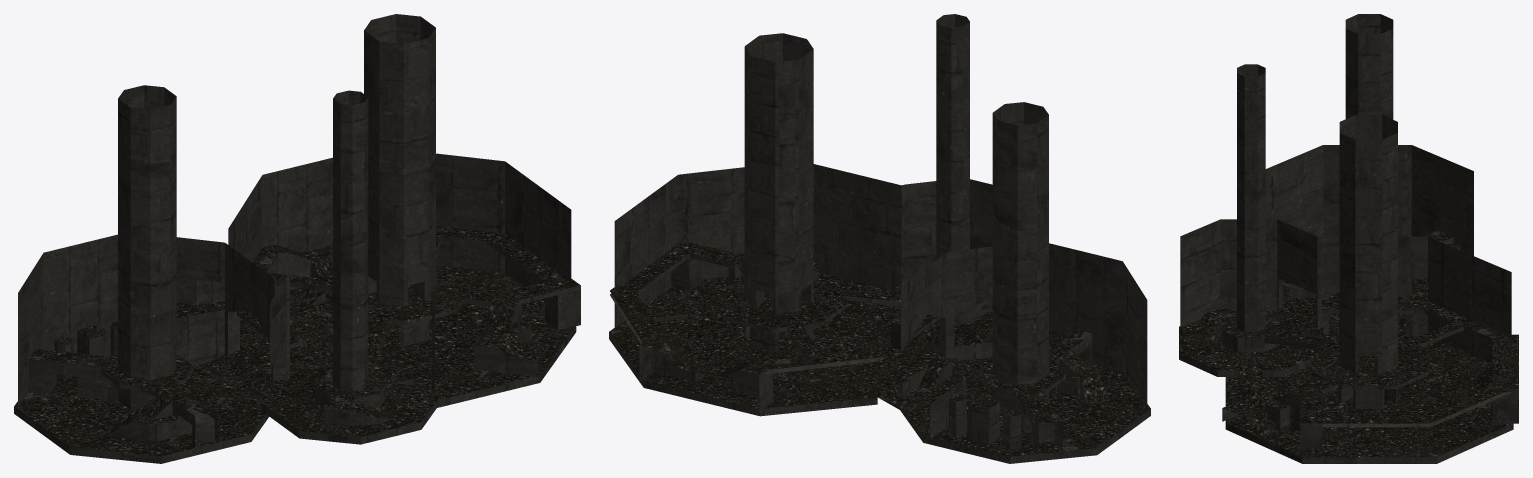
The model's file is SM_Gothic_Arena.fbx.
The picture shows the model from 3 angles, left to right: view 1: azimuth 30°, elevation 25°; view 2: azimuth 150°, elevation 25°; view 3: azimuth 270°, elevation 25°; orthographic projection. The views are drawn at different scales.
Visible parts, largest first — view 1: Arena; view 2: Arena; view 3: Arena.
Boxes of the visible parts, x1,y1,x2,y2 form: Arena: [14, 14, 580, 463]; Arena: [609, 14, 1150, 463]; Arena: [1179, 14, 1518, 463].
Bounding box in the file's own units: 139 × 85.94 × 91.38.
